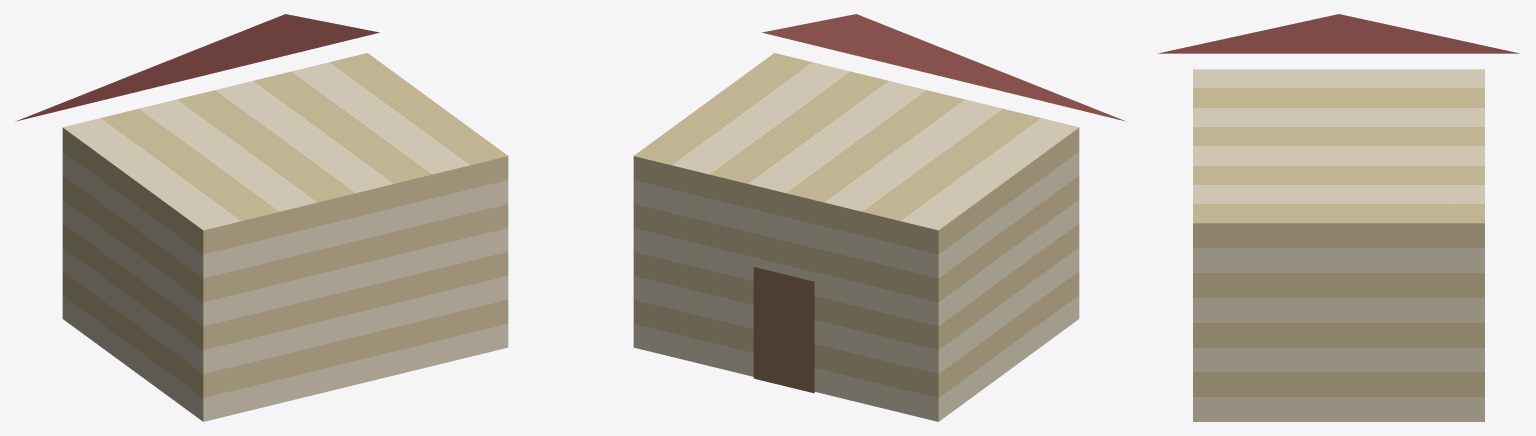
Rendered from house.glb.
The picture shows the model from 3 angles, left to right: view 1: azimuth 30°, elevation 25°; view 2: azimuth 150°, elevation 25°; view 3: azimuth 270°, elevation 25°; orthographic projection. The views are drawn at different scales.
Parts seen in each view (by area): view 1: house; view 2: house; view 3: house.
Part boxes in pixels (box(x1,y1,x2,y2)): house: box(15, 14, 508, 421); house: box(633, 14, 1126, 421); house: box(1158, 14, 1519, 421).
Bounding box in the file's own units: 1.2 × 1 × 1.
Materials: 3 (1 with a texture image).
